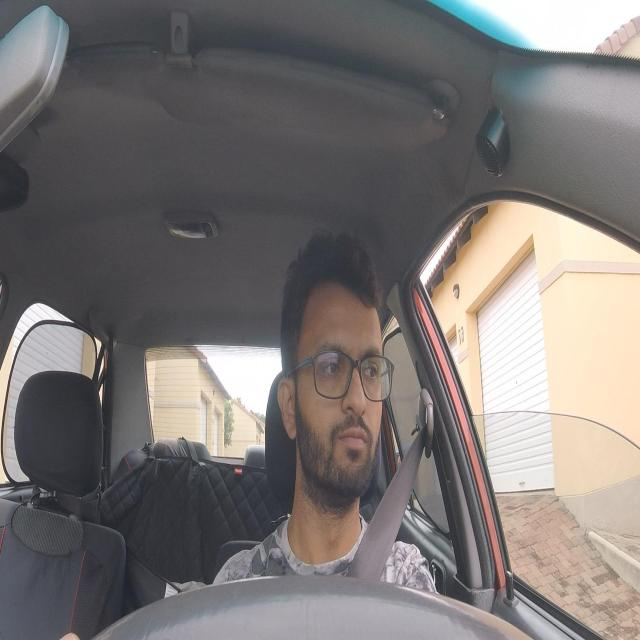open: (312, 335, 350, 390), (357, 337, 384, 396)
